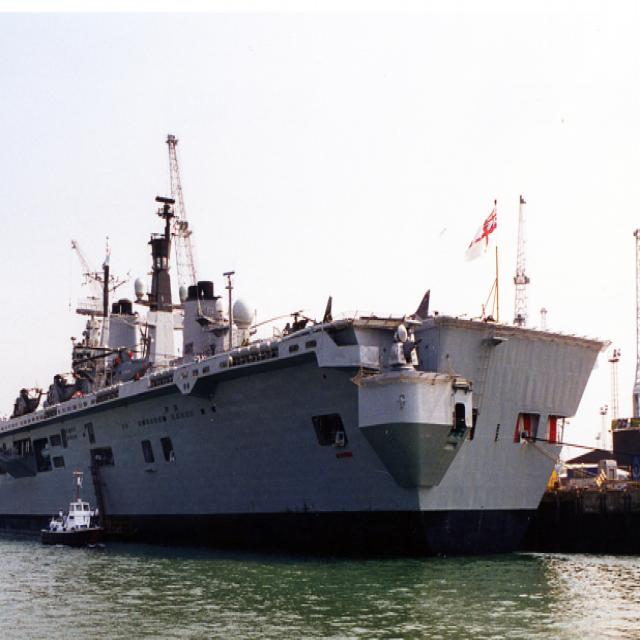Portanaves: (1, 119, 611, 566)
